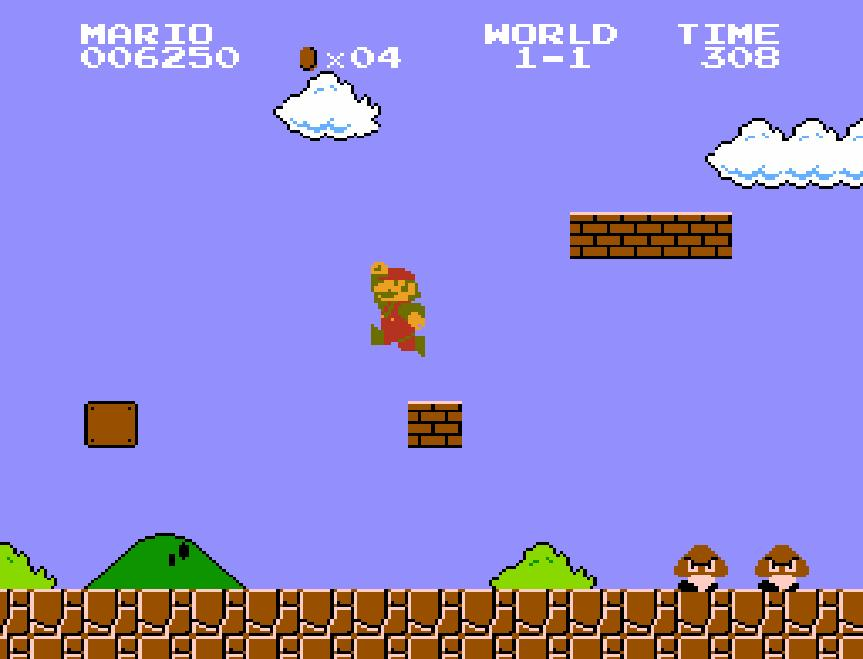big_mario: (368, 260, 426, 358)
